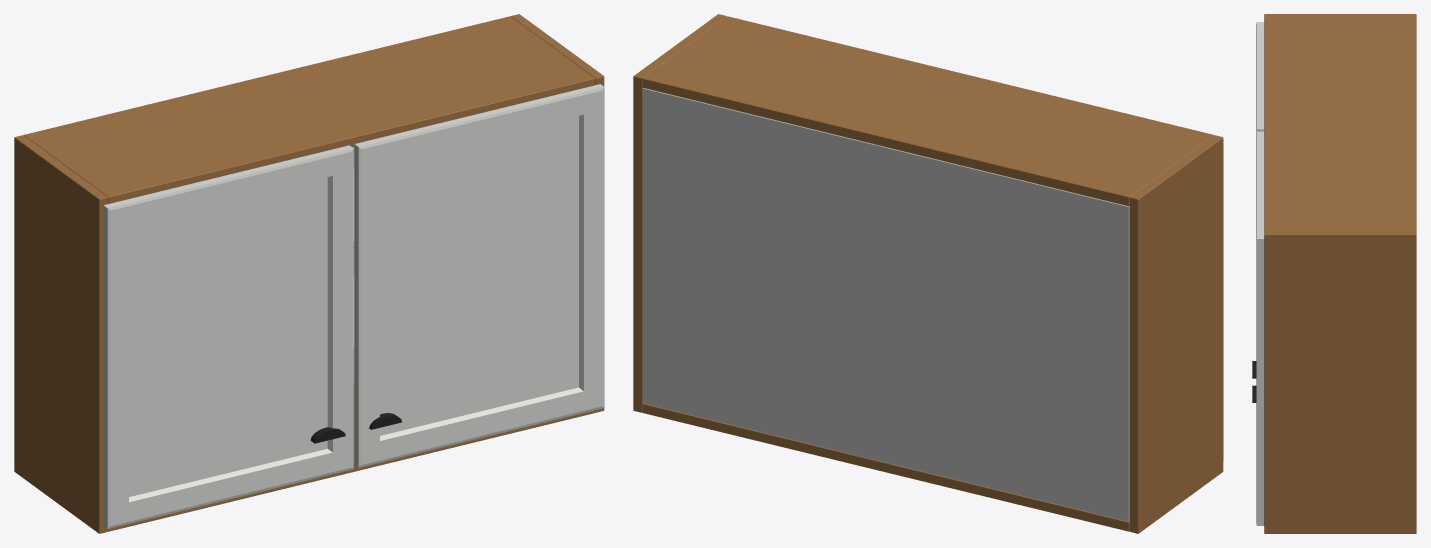
File: Alacena_cocina_cerrada.fbx
3 renders of one model, left to right at view 1: azimuth 30°, elevation 25°; view 2: azimuth 150°, elevation 25°; view 3: azimuth 270°, elevation 25°, orthographic. The views are drawn at different scales.
Visible parts, largest first — view 1: Puerta derecha, Puerta izquierda, Tapa superior, Costado izquierdo, Tapa inferior, Costado derecho; view 2: Fondo cerrado, Tapa superior, Costado izquierdo, Tapa inferior, Costado derecho; view 3: Costado derecho, Tapa superior, Puerta derecha, Puerta izquierda, Costado izquierdo.
Part boxes in pixels (bbox=[...]): Puerta derecha: bbox=[354, 84, 604, 467]; Puerta izquierda: bbox=[103, 145, 353, 529]; Tapa superior: bbox=[24, 16, 594, 203]; Costado izquierdo: bbox=[14, 135, 108, 533]; Tapa inferior: bbox=[108, 383, 594, 531]; Costado derecho: bbox=[511, 14, 604, 412]; Fondo cerrado: bbox=[642, 88, 1129, 521]; Tapa superior: bbox=[642, 16, 1213, 206]; Costado izquierdo: bbox=[1129, 135, 1223, 533]; Tapa inferior: bbox=[642, 403, 1129, 531]; Costado derecho: bbox=[633, 14, 726, 412]; Costado derecho: bbox=[1264, 230, 1416, 533]; Tapa superior: bbox=[1264, 18, 1416, 230]; Puerta derecha: bbox=[1256, 131, 1264, 525]; Puerta izquierda: bbox=[1256, 22, 1264, 133]; Costado izquierdo: bbox=[1264, 14, 1416, 17].
Size of the model in its own units: 236 by 149 by 74.24.
